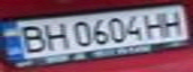0: (106, 15, 130, 44), (69, 18, 93, 47)
4: (124, 12, 148, 42)
6: (90, 16, 112, 46)
B: (12, 21, 51, 55)
H: (36, 20, 69, 52), (157, 7, 190, 37), (139, 10, 172, 38)
